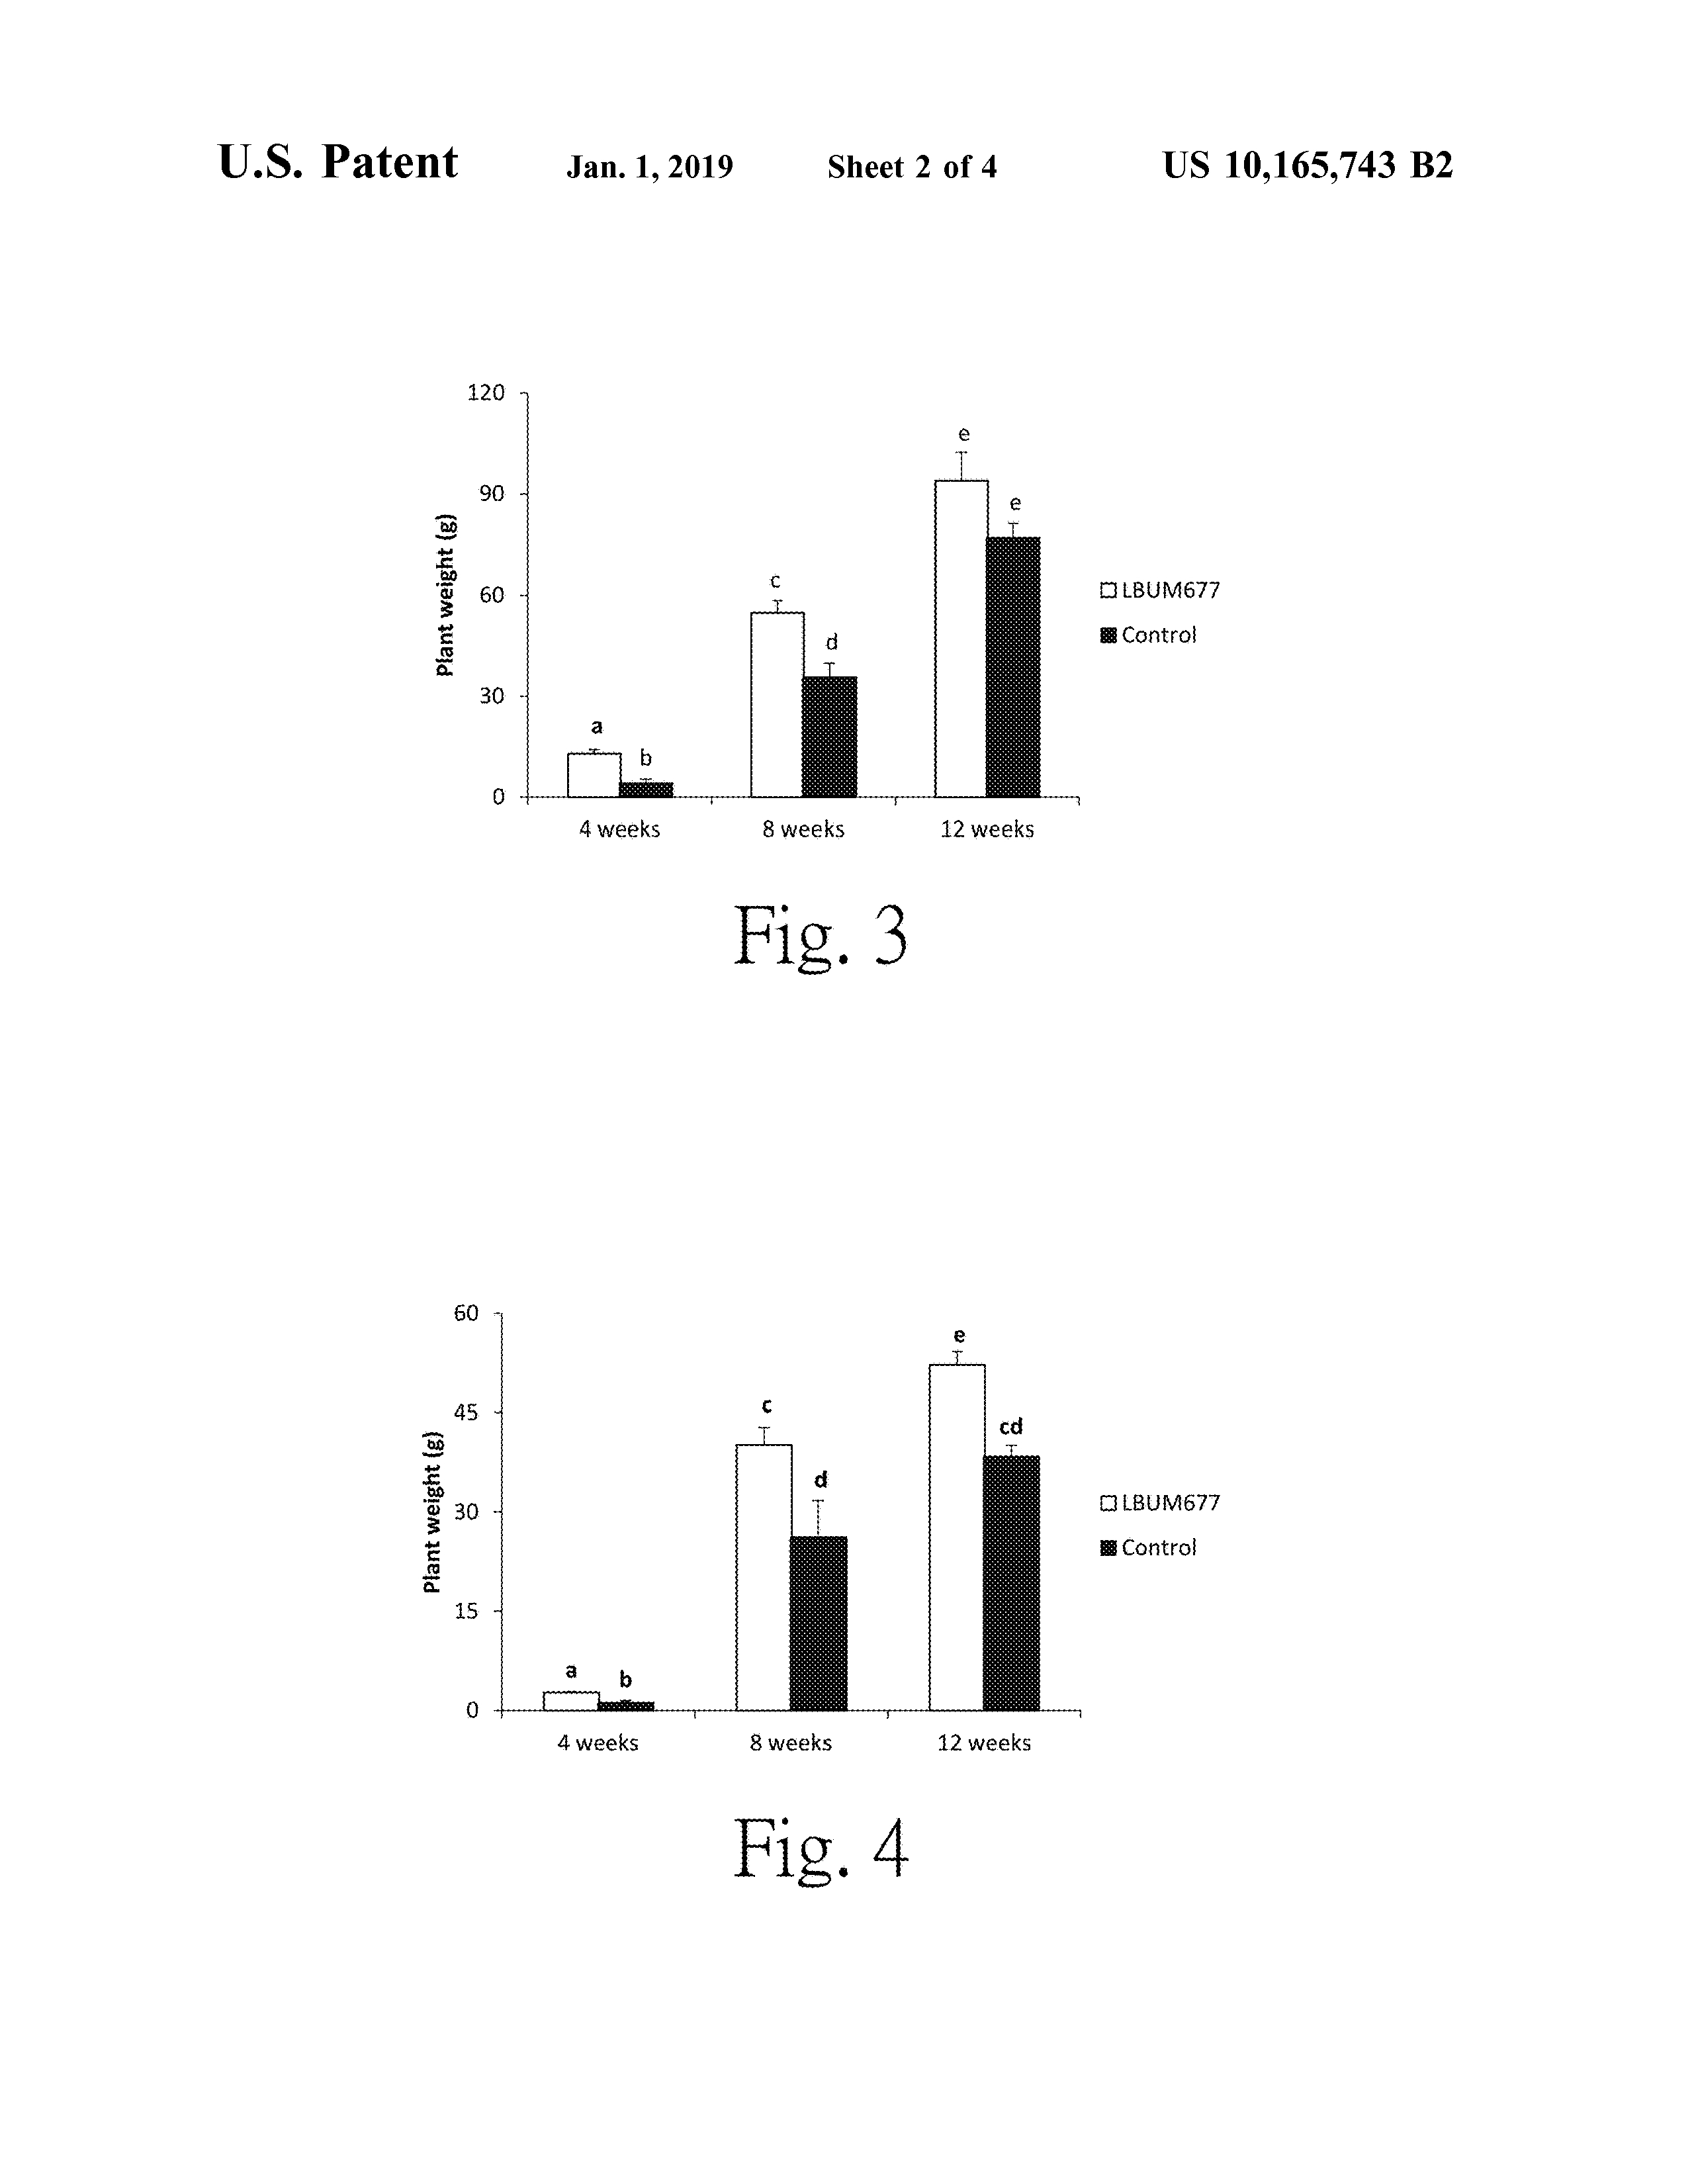patent image: (399, 334, 1378, 995), (355, 1249, 1276, 1927)
